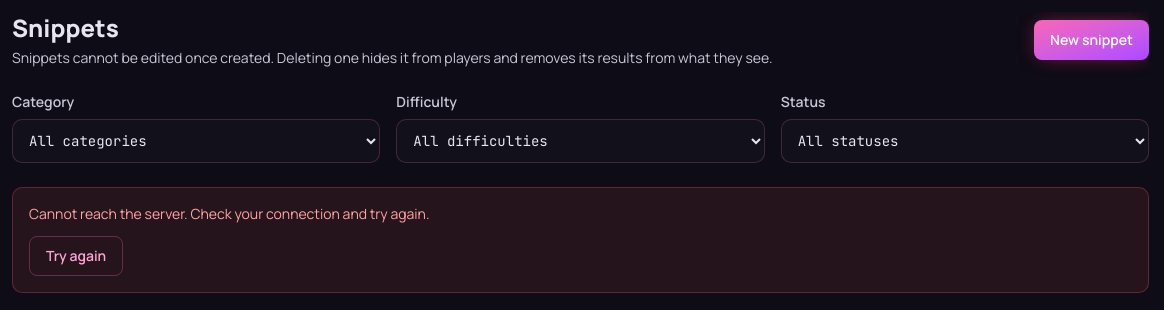
Scenario: SnippetsPage › reports a load failure and retries
The width and height of the screenshot is (1164, 310).
Expected: the message shows "Cannot reach the server", [29,204,430,223]
Click the button "Try again" at (76, 256), box [29,236,123,276]
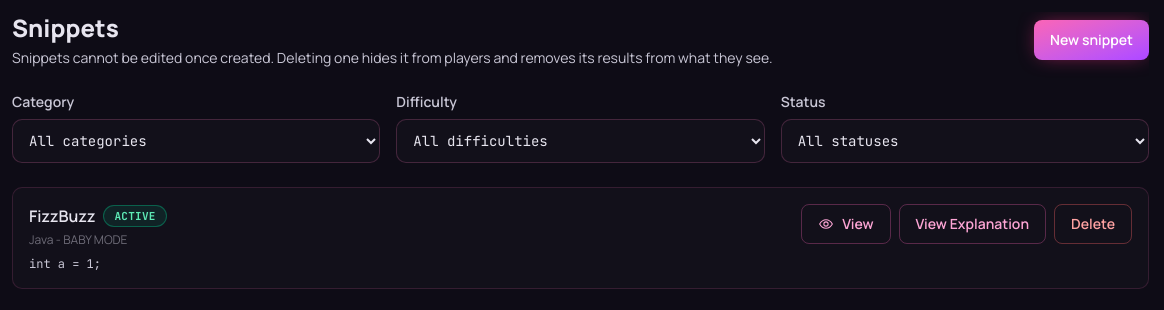
Expected: the heading "FizzBuzz" is shown, [29,204,95,228]
